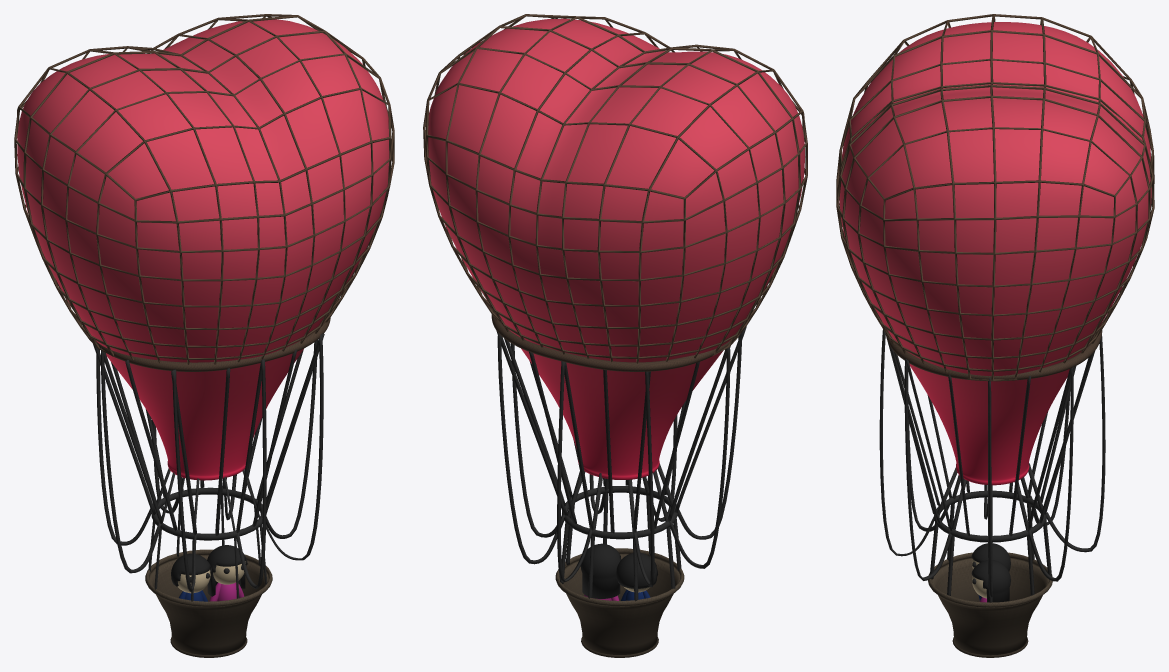
3 views of the same model, side by side, from view 1: azimuth 30°, elevation 25°; view 2: azimuth 150°, elevation 25°; view 3: azimuth 270°, elevation 25° (orthographic). The views are drawn at different scales.
Visible parts, largest first — view 1: Love balloon, TailAndBase, couple; view 2: Love balloon, TailAndBase, couple; view 3: Love balloon, TailAndBase, couple.
Boxes of the visible parts, x1,y1,x2,y2 form: Love balloon: (14,14,394,480); TailAndBase: (93,333,324,657); couple: (171,545,247,601); Love balloon: (423,14,807,479); TailAndBase: (495,326,746,657); couple: (580,543,657,600); Love balloon: (836,14,1154,485); TailAndBase: (879,329,1105,657); couple: (971,543,1010,602).
Size of the model in its own units: 13.37 by 22.69 by 11.29.
Materials: 3 (3 with a texture image).
